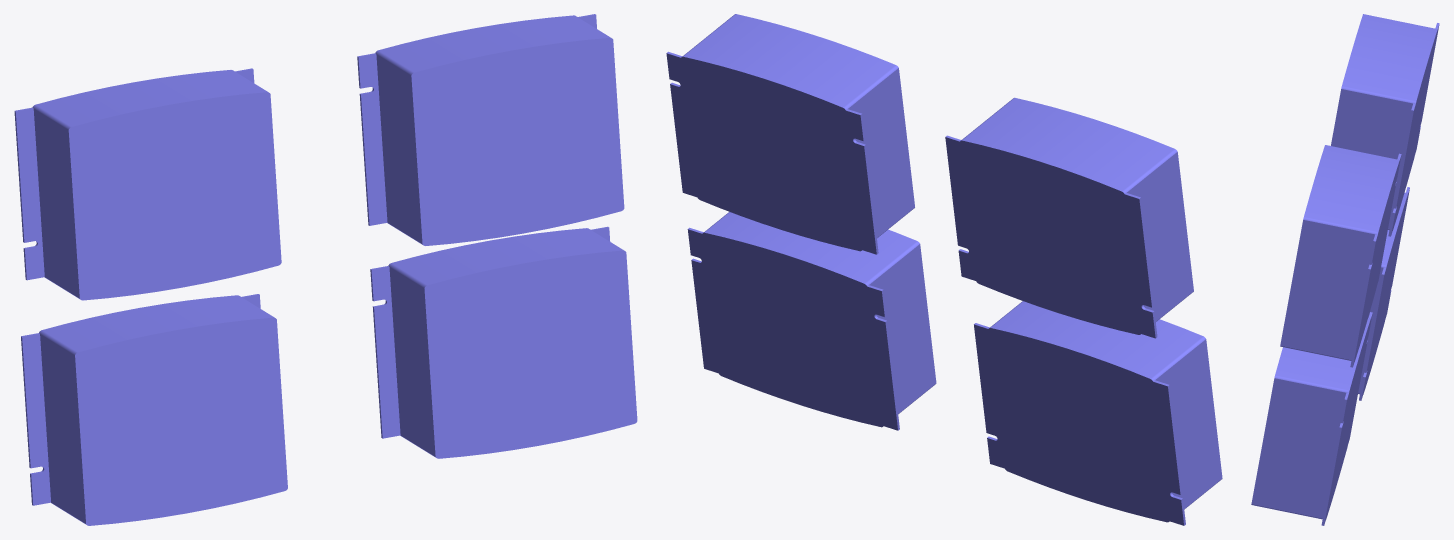
File: POWER ARCHITECTURE__ELEC BOARD COMPONENTS__MPPT250_70-Tr solar charge controller.glb
The picture shows the model from 3 angles, left to right: view 1: azimuth 30°, elevation 25°; view 2: azimuth 150°, elevation 25°; view 3: azimuth 270°, elevation 25°; orthographic projection. The views are drawn at different scales.
Parts seen in each view (by area): view 1: MPPT250/70-Tr solar charge controller; view 2: MPPT250/70-Tr solar charge controller; view 3: MPPT250/70-Tr solar charge controller.
Boxes of the visible parts, left/top/right/bottom form: MPPT250/70-Tr solar charge controller: left=14, top=14, right=637, bottom=525; MPPT250/70-Tr solar charge controller: left=666, top=14, right=1222, bottom=525; MPPT250/70-Tr solar charge controller: left=1251, top=14, right=1439, bottom=525.
Size of the model in its own units: 0.6221 by 0.421 by 0.2259.
